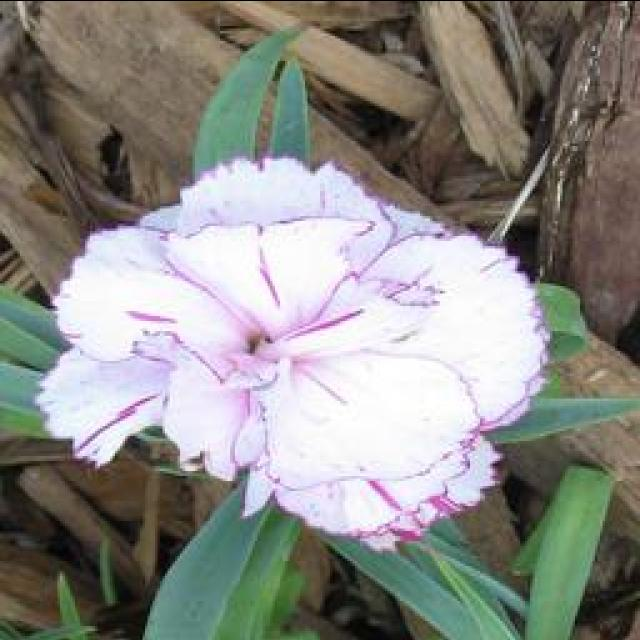carnation: (32, 39, 560, 574)
